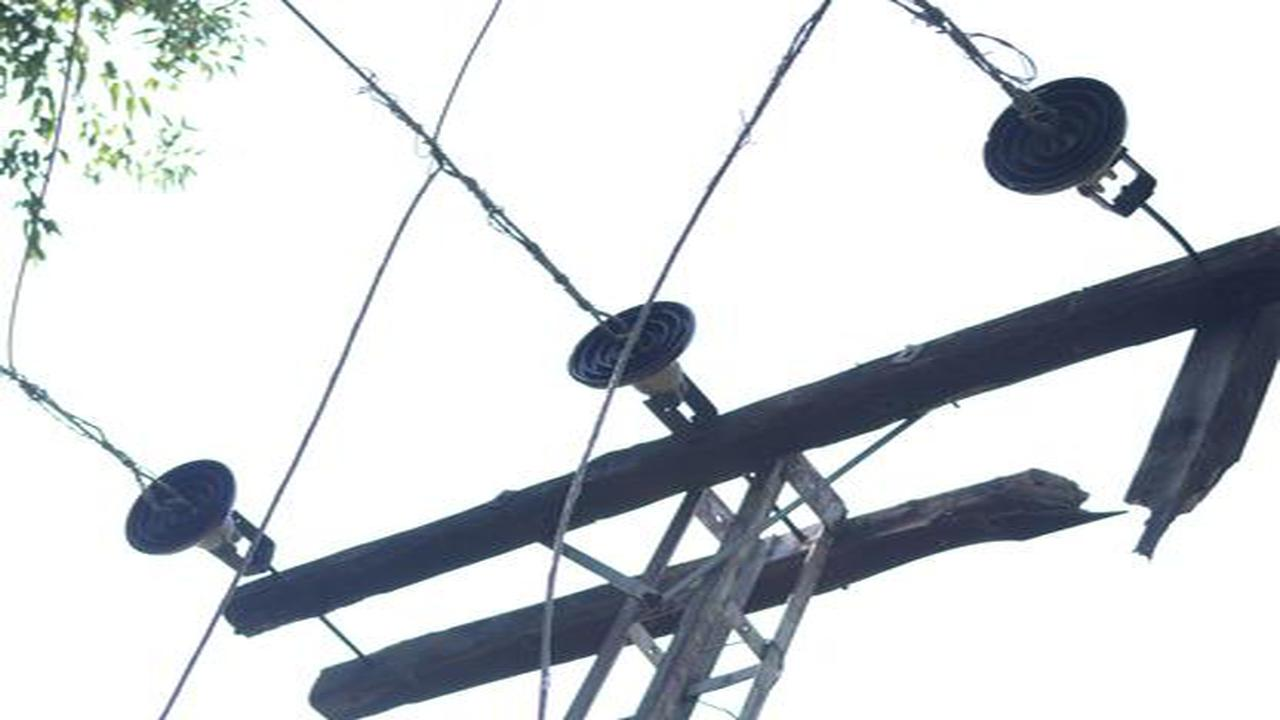insulator_disc: (980, 71, 1154, 214), (559, 291, 705, 398), (124, 452, 248, 557)
